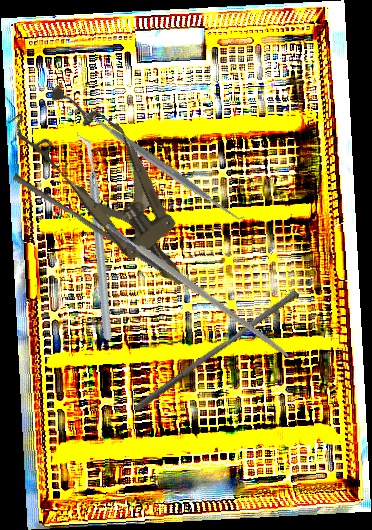Chopper: (17, 130, 172, 343)
Pusher: (133, 283, 300, 419), (9, 173, 168, 273)
Scalpel Handle: (104, 220, 292, 360)
Spatula Surgical: (69, 97, 248, 231)
Speculum: (5, 70, 218, 311)
